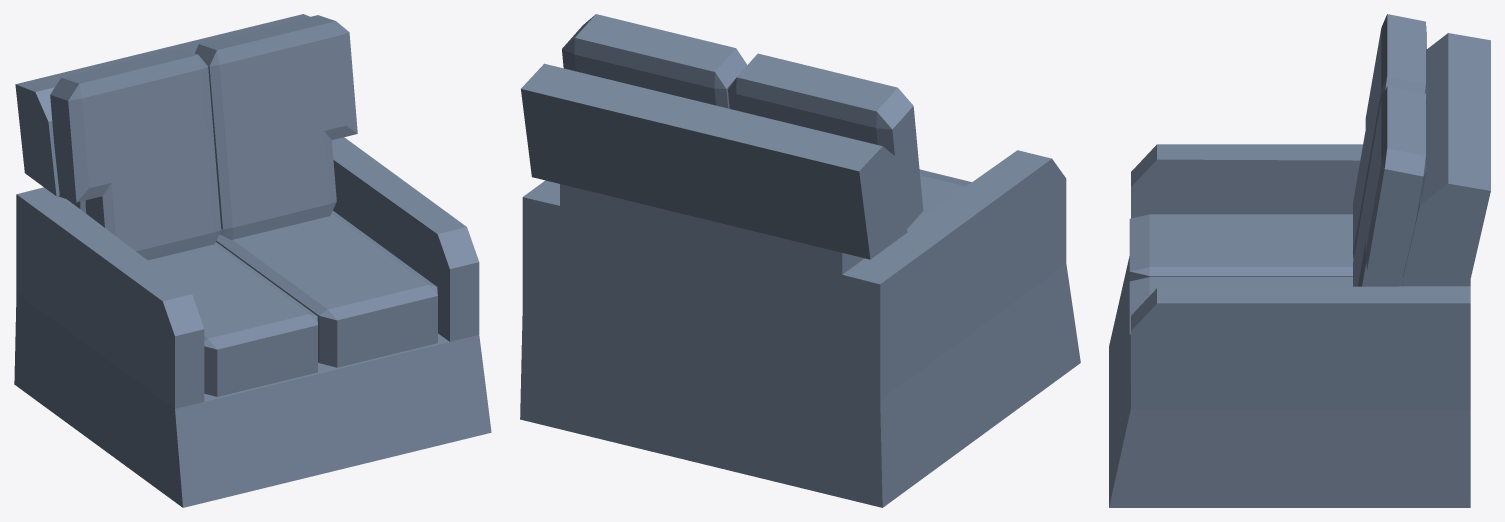
The model's file is qt-sofa-double.glb.
3 renders of one model, left to right at view 1: azimuth 30°, elevation 25°; view 2: azimuth 150°, elevation 25°; view 3: azimuth 270°, elevation 25°, orthographic. The views are drawn at different scales.
Visible parts, largest first — view 1: SofaDouble_Cube.002; view 2: SofaDouble_Cube.002; view 3: SofaDouble_Cube.002.
Boxes of the visible parts, x1,y1,x2,y2 form: SofaDouble_Cube.002: (14,14,491,507); SofaDouble_Cube.002: (520,14,1080,507); SofaDouble_Cube.002: (1109,14,1490,507).
Bounding box in the file's own units: 1 × 1 × 1.
